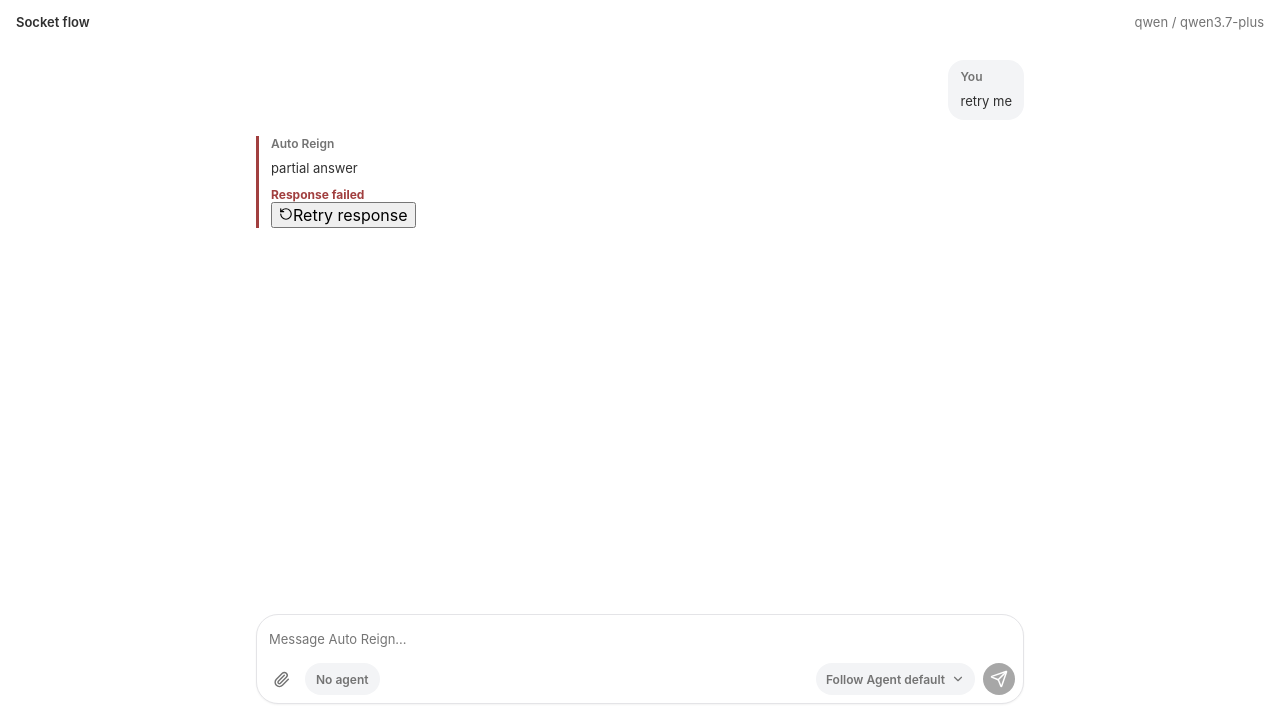
Test case: Task room component flow › retries a failed Assistant in place and renders the same Subtask ID
The width and height of the screenshot is (1280, 720).
Check: the text "partial answer" is shown, box [271,160,358,176]
Click the button "Retry response" at (343, 215), box [271,202,416,228]
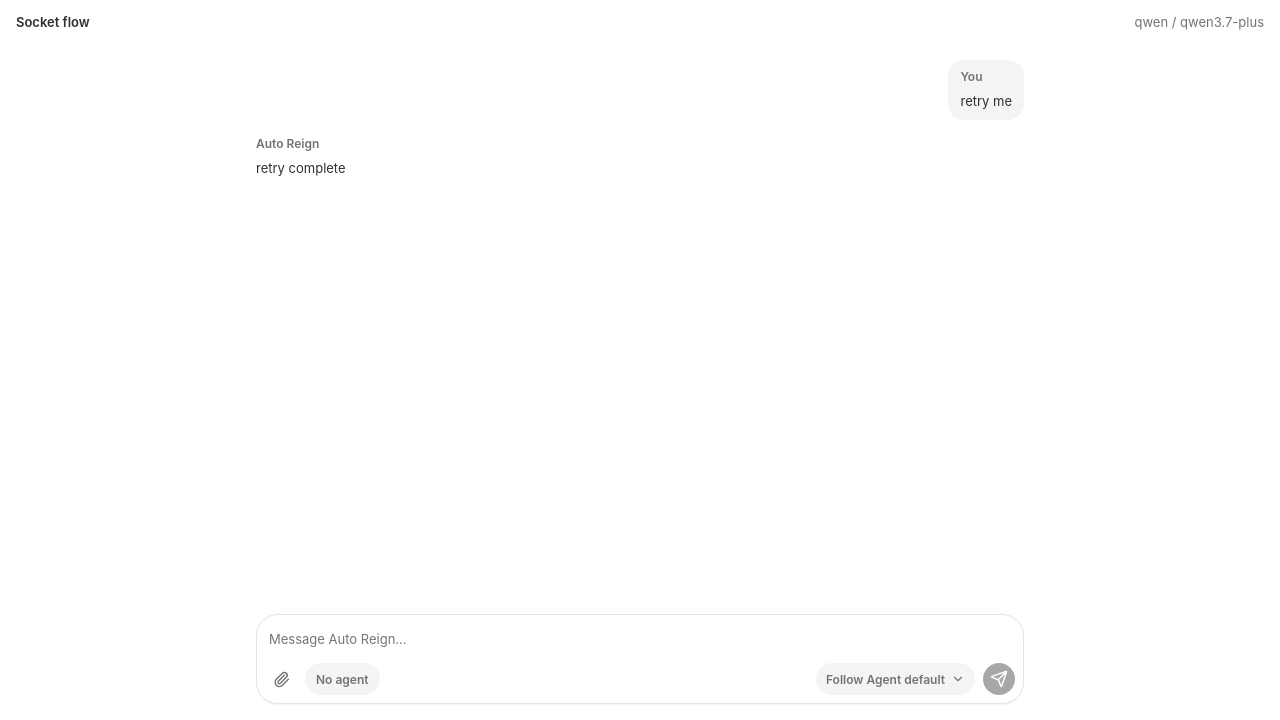
Check: the text "retry complete" is shown, box [256,160,346,176]
Check: the text "partial answer" is gone
